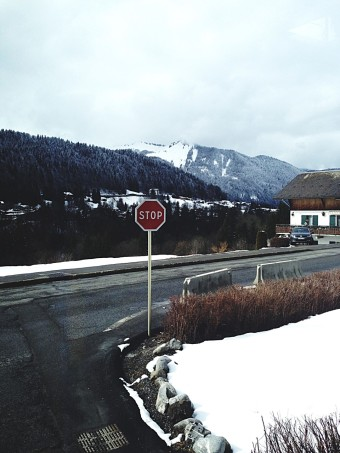SS: (135, 200, 168, 231)
